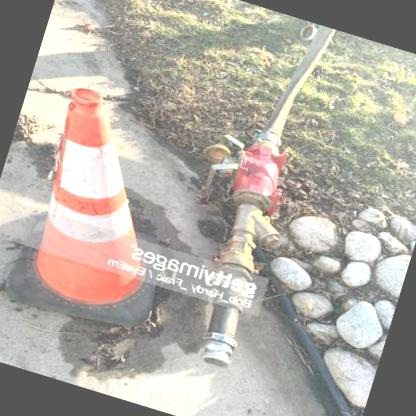cone: (0, 80, 209, 340)
